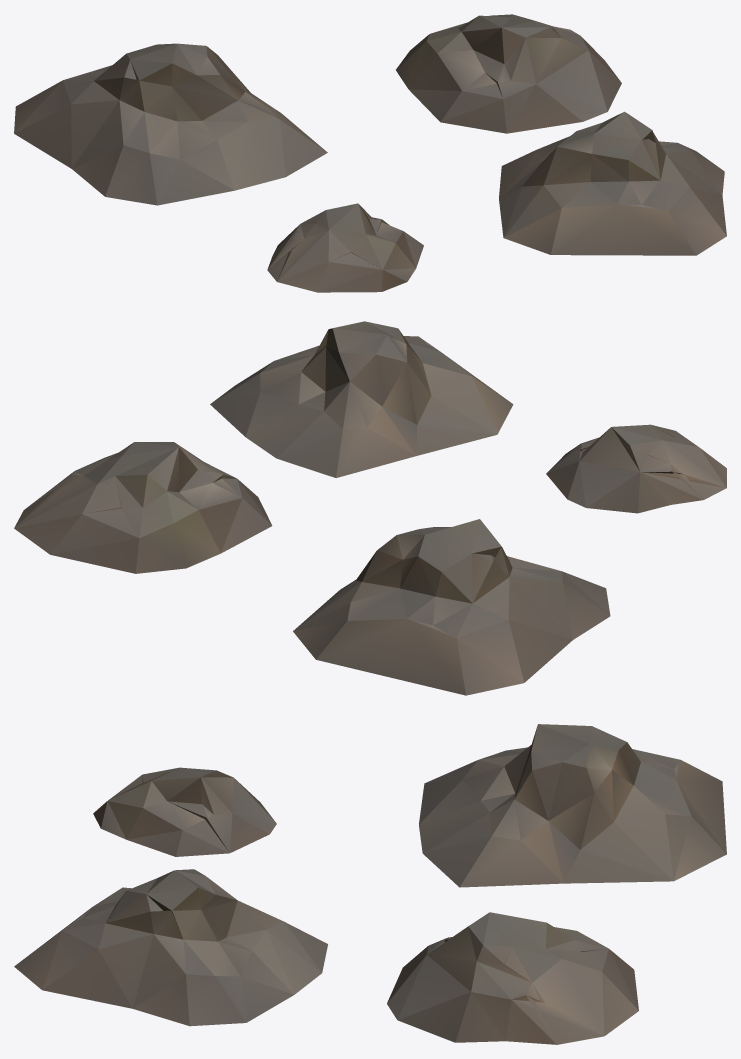
Rendered from stump_cluster.glb.
3 views of the same model, one above another, from view 1: azimuth 30°, elevation 25°; view 2: azimuth 150°, elevation 25°; view 3: azimuth 270°, elevation 25° (orthographic). The views are drawn at different scales.
Visible parts, largest first — view 1: stump_cluster; view 2: stump_cluster; view 3: stump_cluster.
Boxes of the visible parts, x1,y1,x2,y2 form: stump_cluster: [14, 14, 726, 292]; stump_cluster: [14, 321, 726, 695]; stump_cluster: [14, 724, 726, 1044].
Bounding box in the file's own units: 3.4 × 0.5731 × 3.69.
